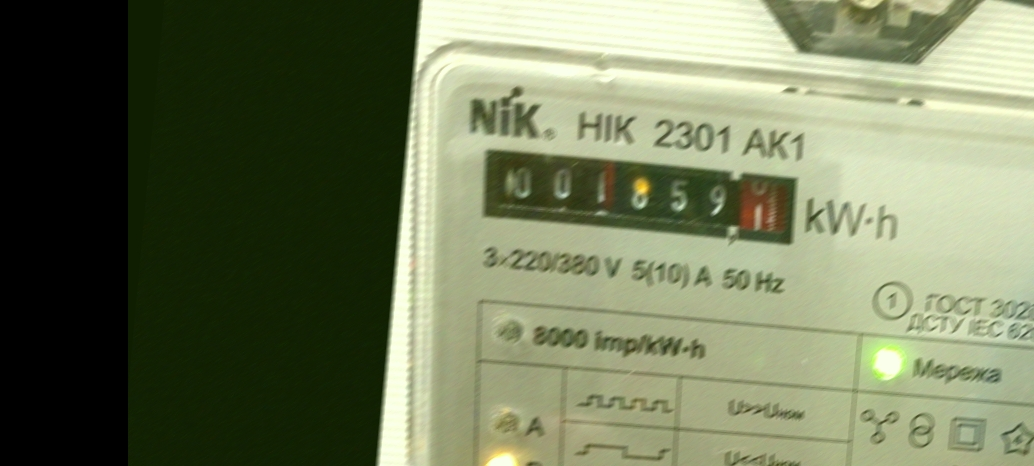0: (512, 162, 534, 199), (551, 164, 574, 199)
1: (595, 166, 609, 203), (751, 199, 766, 230)
5: (668, 174, 691, 212)
8: (629, 173, 652, 209)
9: (706, 180, 729, 216)
screen: (468, 134, 810, 255)
